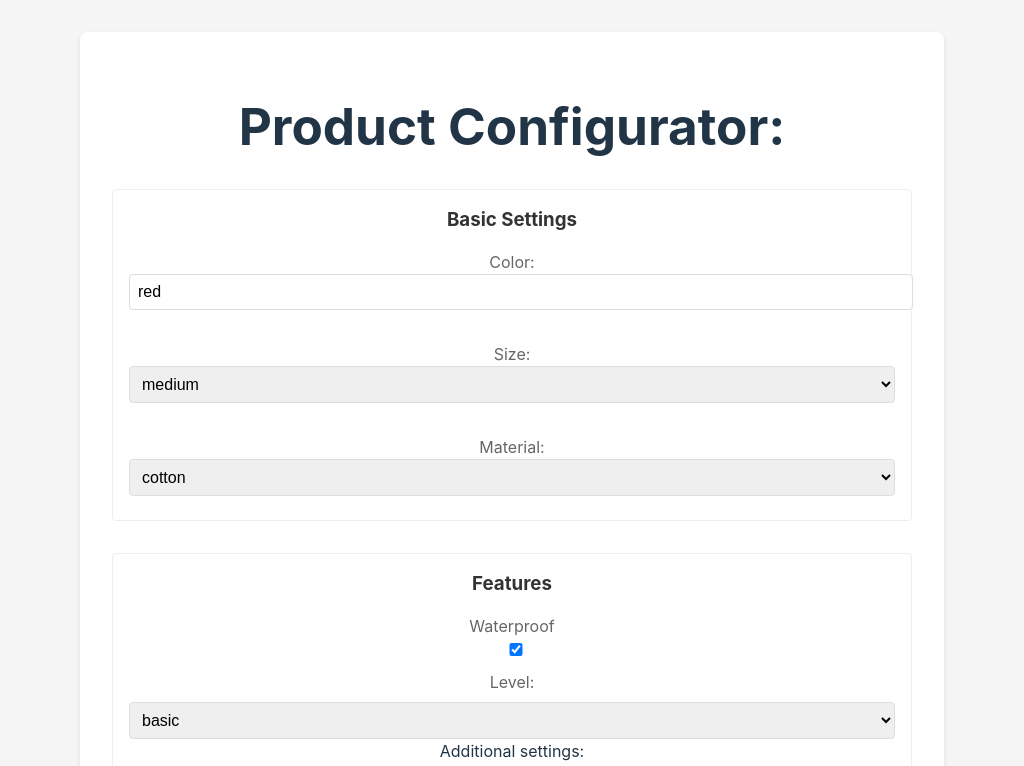
Test: ProductConfigurator › tracks changes in history
The width and height of the screenshot is (1024, 766).
Replace the text in the field labelled "Color:" with "blue". click: (521, 292)
box: [129,274,913,310]
(page scrolled)
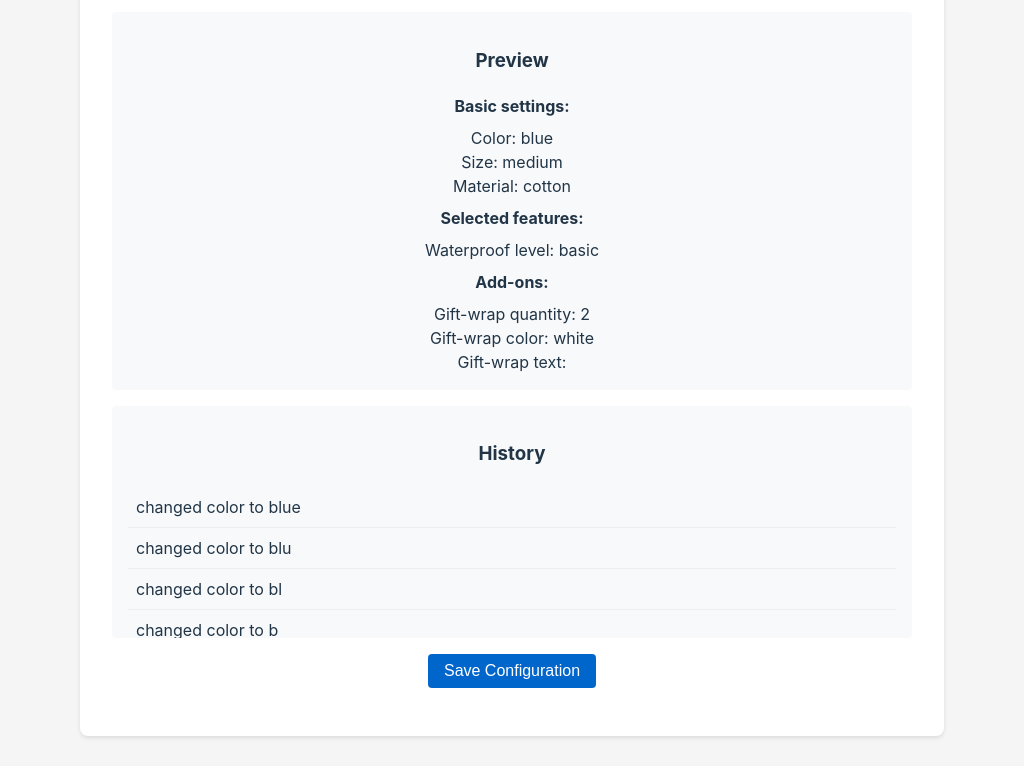
Now the list item "changed color to blue" is shown, box [128,487,896,528]
